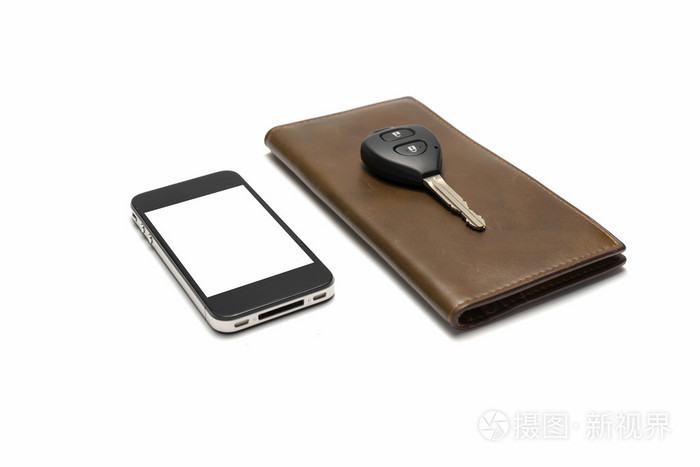key: (349, 122, 495, 236)
